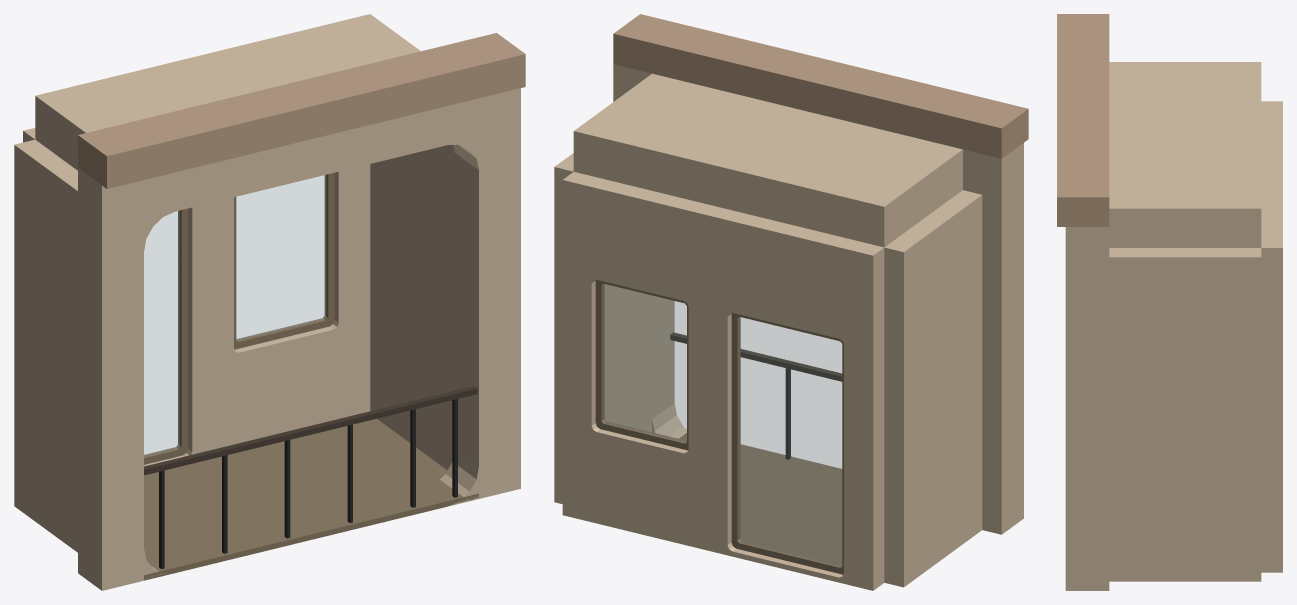
Rendered from city_res_loggia.glb.
The picture shows the model from 3 angles, left to right: view 1: azimuth 30°, elevation 25°; view 2: azimuth 150°, elevation 25°; view 3: azimuth 270°, elevation 25°; orthographic projection. The views are drawn at different scales.
Parts seen in each view (by area): view 1: CityResLoggia_Wall, CityResLoggia_Soffit, CityResLoggia_Back, CityResLoggia_Floor, CityResLoggia_Band, CityResLoggia_Side0.2, CityResLoggia_Side3.6, CityResLoggia_WindowGlass, CityResLoggia_DoorGlass, CityResLoggia_Rail, CityResLoggia_WindowFrame, CityResLoggia_DoorFrame (+1 smaller); view 2: CityResLoggia_Back, CityResLoggia_Soffit, CityResLoggia_Side0.2, CityResLoggia_DoorGlass, CityResLoggia_Band, CityResLoggia_Wall, CityResLoggia_WindowGlass, CityResLoggia_Side3.6, CityResLoggia_Floor, CityResLoggia_DoorFrame, CityResLoggia_WindowFrame, CityResLoggia_Rail; view 3: CityResLoggia_Side3.6, CityResLoggia_Soffit, CityResLoggia_Wall, CityResLoggia_Band, CityResLoggia_Back.
Boxes of the visible parts, x1,y1,x2,y2 form: CityResLoggia_Wall: (78, 88, 520, 590); CityResLoggia_Soffit: (35, 14, 478, 218); CityResLoggia_Back: (23, 128, 370, 466); CityResLoggia_Floor: (144, 418, 478, 580); CityResLoggia_Band: (78, 33, 525, 188); CityResLoggia_Side0.2: (14, 139, 77, 552); CityResLoggia_Side3.6: (370, 145, 454, 470); CityResLoggia_WindowGlass: (236, 175, 326, 340); CityResLoggia_DoorGlass: (144, 211, 179, 456); CityResLoggia_Rail: (144, 386, 477, 475); CityResLoggia_WindowFrame: (234, 172, 334, 349); CityResLoggia_DoorFrame: (144, 208, 187, 464); CityResLoggia_Back: (562, 172, 884, 590); CityResLoggia_Soffit: (573, 73, 962, 247); CityResLoggia_Side0.2: (884, 190, 982, 587); CityResLoggia_DoorGlass: (739, 317, 841, 566); CityResLoggia_Band: (613, 14, 1028, 158); CityResLoggia_Wall: (613, 64, 1023, 534); CityResLoggia_WindowGlass: (603, 284, 686, 441); CityResLoggia_Side3.6: (554, 153, 652, 503); CityResLoggia_Floor: (679, 433, 842, 564); CityResLoggia_DoorFrame: (731, 313, 843, 574); CityResLoggia_WindowFrame: (595, 279, 688, 450); CityResLoggia_Rail: (670, 332, 842, 381); CityResLoggia_Side3.6: (1109, 248, 1261, 581); CityResLoggia_Soffit: (1109, 62, 1261, 247); CityResLoggia_Wall: (1065, 227, 1109, 590); CityResLoggia_Band: (1057, 14, 1109, 226); CityResLoggia_Back: (1261, 101, 1282, 572).
Size of the model in its own units: 4 by 4 by 2.08.
